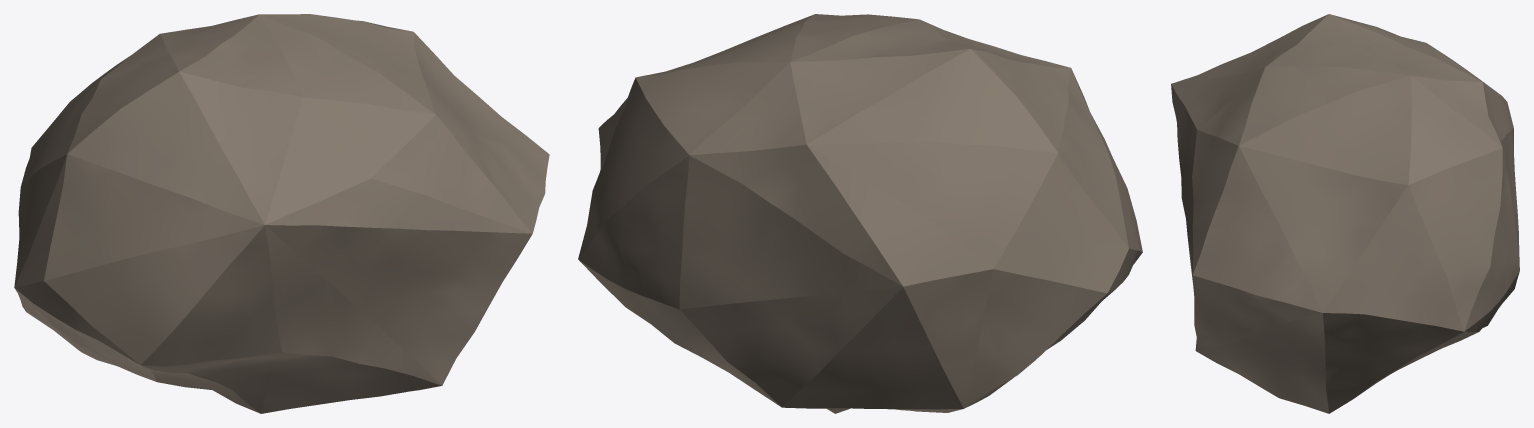
Rendered from organic_rock.glb.
3 renders of one model, left to right at view 1: azimuth 30°, elevation 25°; view 2: azimuth 150°, elevation 25°; view 3: azimuth 270°, elevation 25°, orthographic. The views are drawn at different scales.
Parts seen in each view (by area): view 1: stone; view 2: stone; view 3: stone.
Boxes of the visible parts, x1,y1,x2,y2 form: stone: [14, 14, 549, 413]; stone: [578, 14, 1142, 413]; stone: [1171, 14, 1519, 413].
Size of the model in its own units: 0.0916 by 0.0619 by 0.0625.
